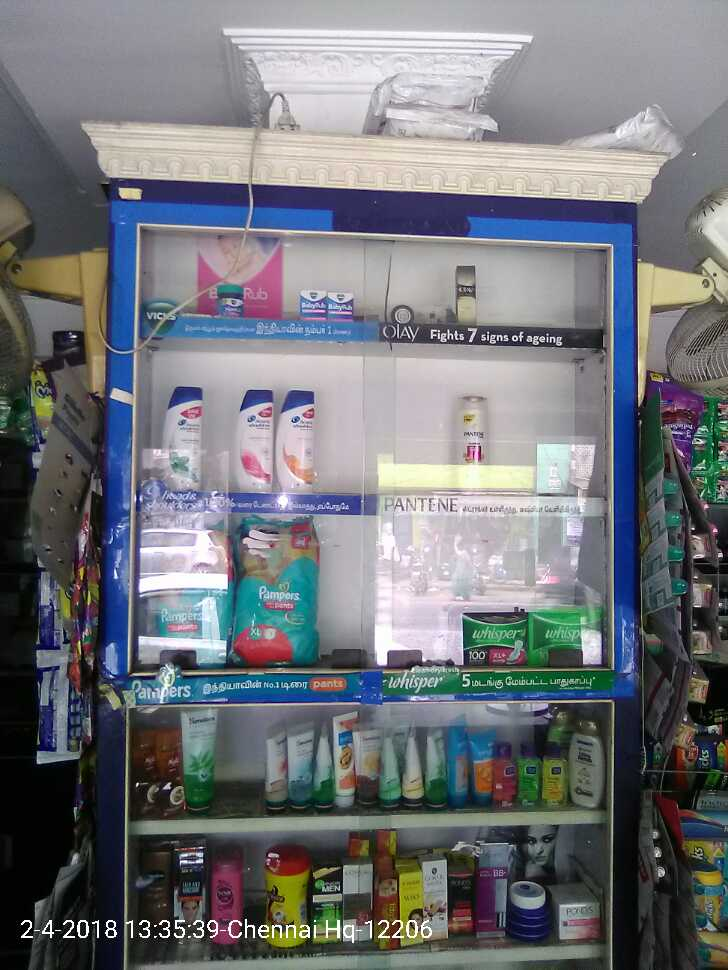vicks: (303, 289, 360, 317), (216, 283, 244, 312)
